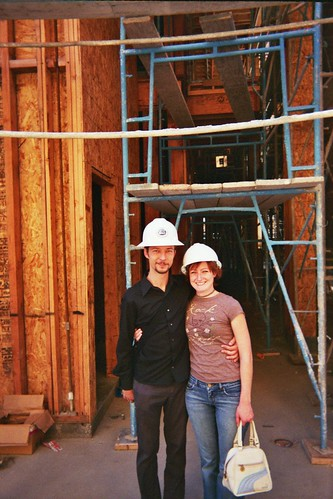person hardhat: (175, 241, 286, 497), (124, 215, 203, 495)
